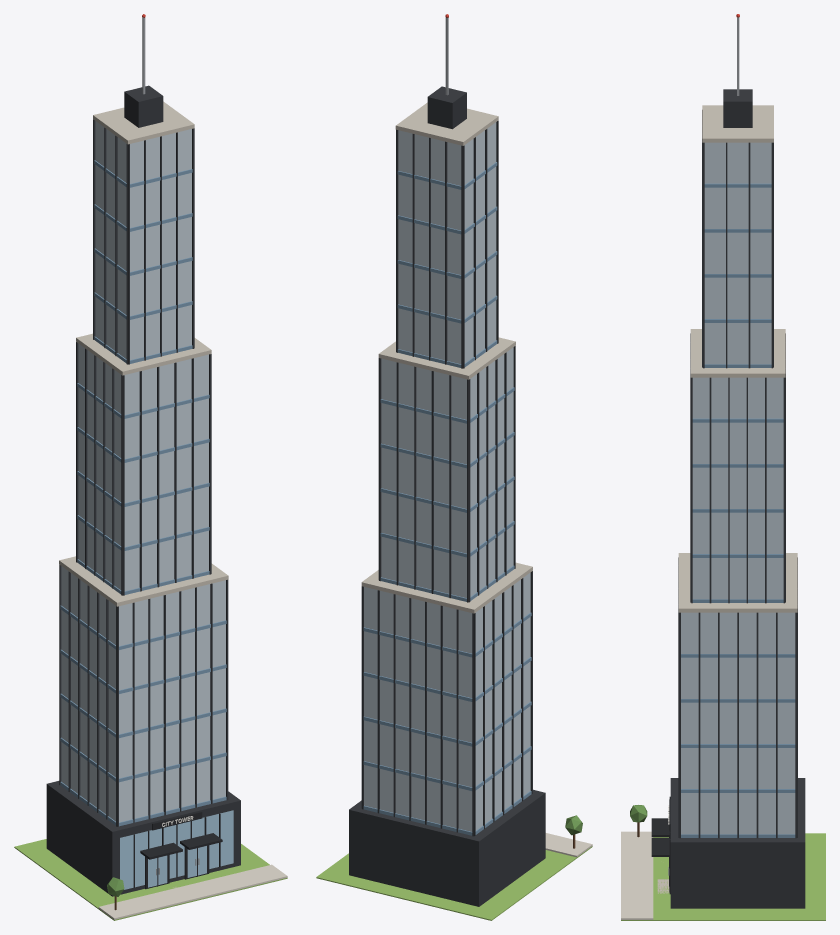
File: Buro_is_kulesi_2_Hafif.fbx
The picture shows the model from 3 angles, left to right: view 1: azimuth 30°, elevation 25°; view 2: azimuth 150°, elevation 25°; view 3: azimuth 270°, elevation 25°; orthographic projection. The views are drawn at different scales.
Visible parts, largest first — view 1: Buro_is_kulesi_2_Hafif; view 2: Buro_is_kulesi_2_Hafif; view 3: Buro_is_kulesi_2_Hafif.
Part boxes in pixels (left/top/right/bottom): Buro_is_kulesi_2_Hafif: left=14, top=14, right=287, bottom=920; Buro_is_kulesi_2_Hafif: left=316, top=14, right=592, bottom=920; Buro_is_kulesi_2_Hafif: left=621, top=14, right=825, bottom=920.
Bounding box in the file's own units: 14 × 65.15 × 14.
